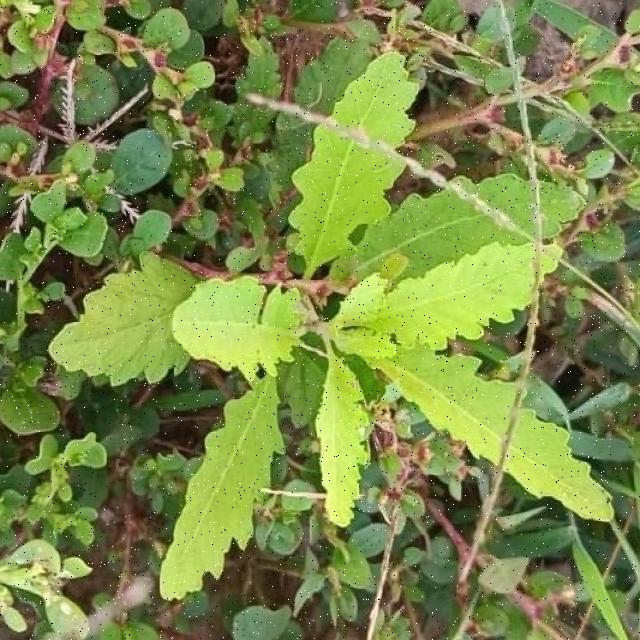weed: (49, 126, 536, 600), (510, 415, 614, 522), (333, 52, 419, 147), (543, 183, 585, 238)
